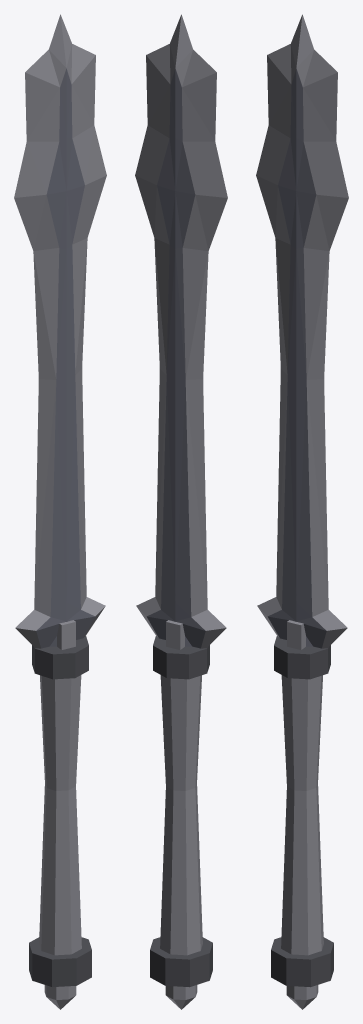
File: _hammer_17.fbx
3 renders of one model, left to right at view 1: azimuth 30°, elevation 25°; view 2: azimuth 150°, elevation 25°; view 3: azimuth 330°, elevation 25°, orthographic.
Parts seen in each view (by area): view 1: hammer_17; view 2: hammer_17; view 3: hammer_17.
Boxes of the visible parts, x1,y1,x2,y2 form: hammer_17: (14,14,106,1009); hammer_17: (135,14,227,1009); hammer_17: (256,14,348,1009).
Bounding box in the file's own units: 9.11 × 93.25 × 5.53.
